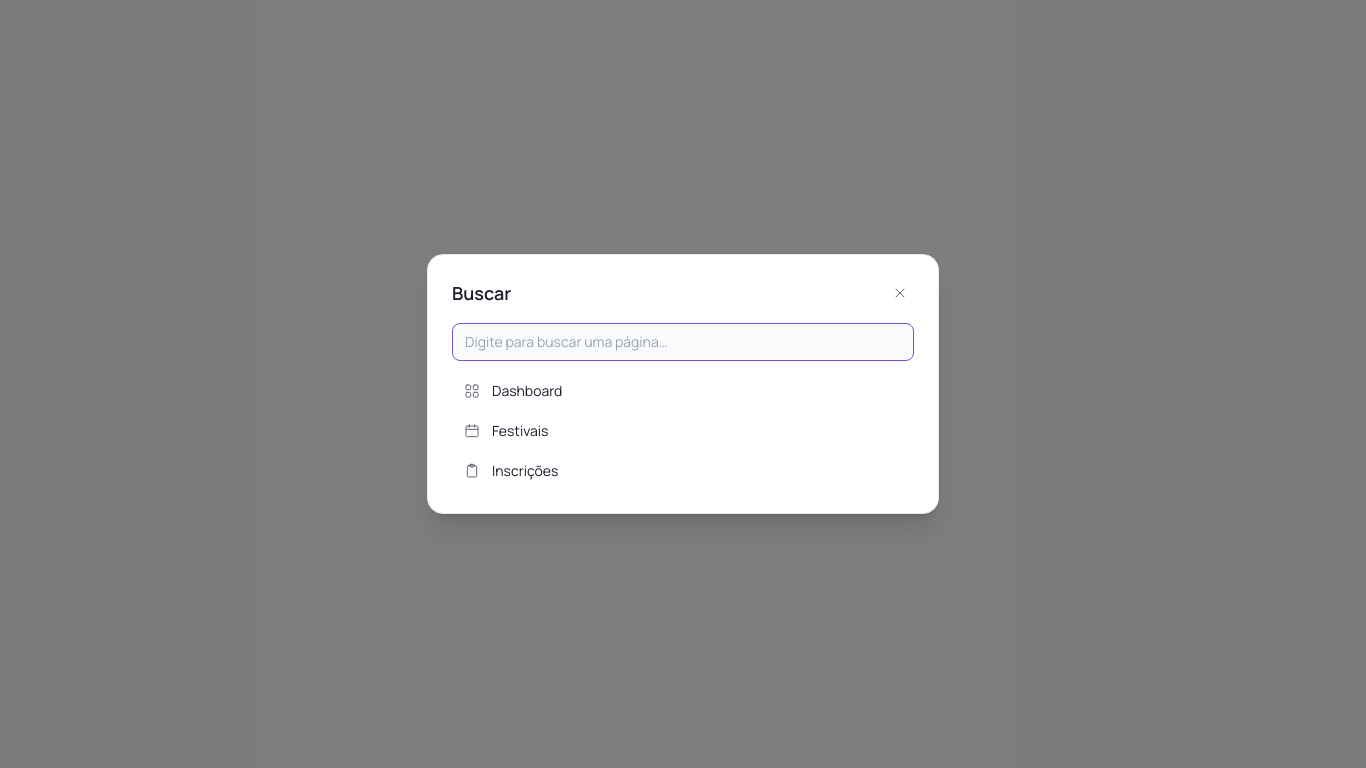
it: CommandPalette › shows an empty message when nothing matches
Type "zzz" into the field with placeholder "Digite para buscar uma página…" at (683, 342), box [452, 323, 914, 361]
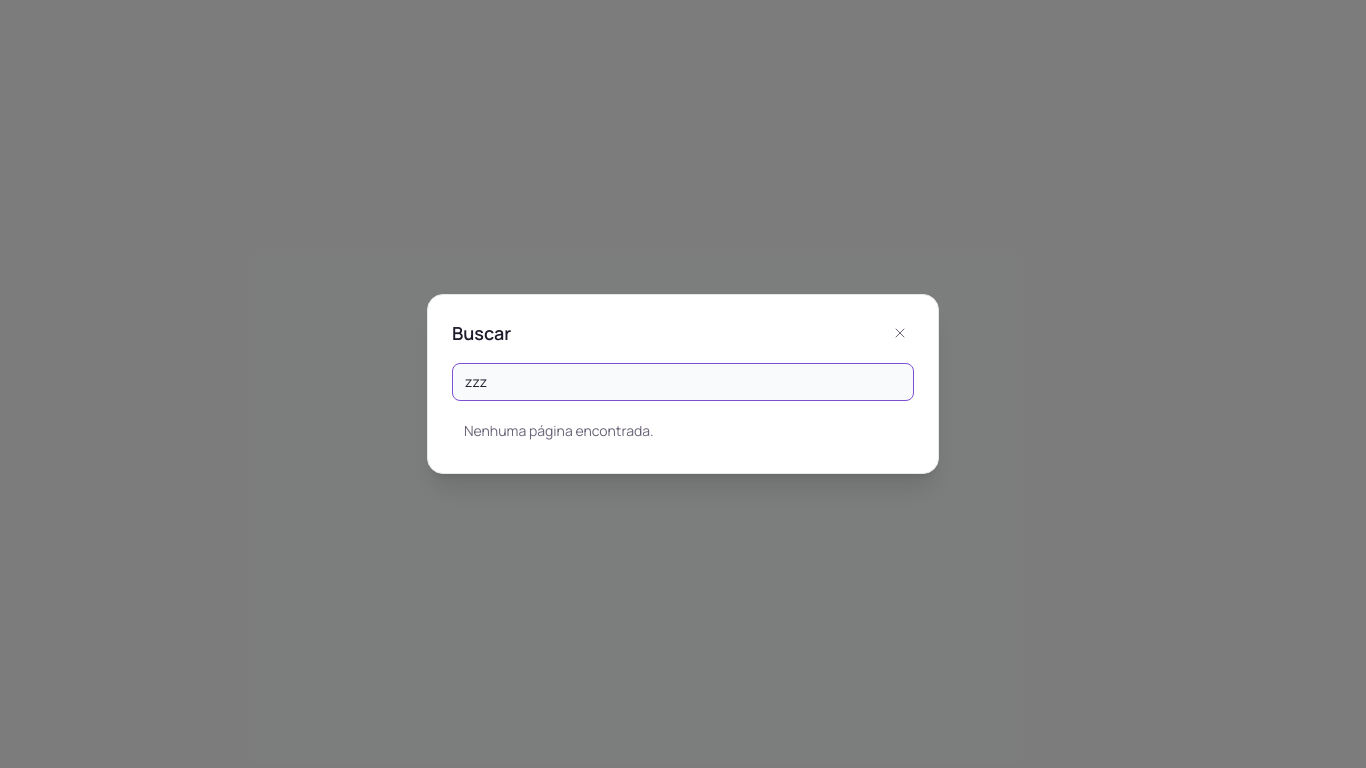
Expected: the list item "Nenhuma página encontrada." is shown, [464, 421, 654, 440]
